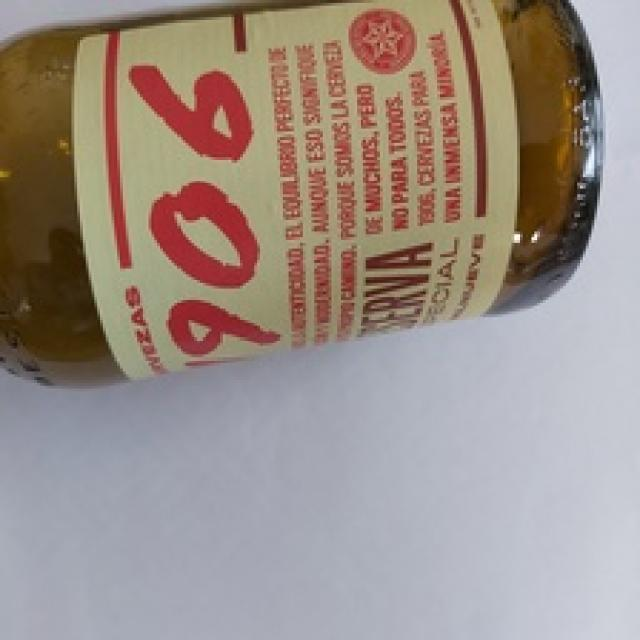Glass: (0, 0, 599, 387)
